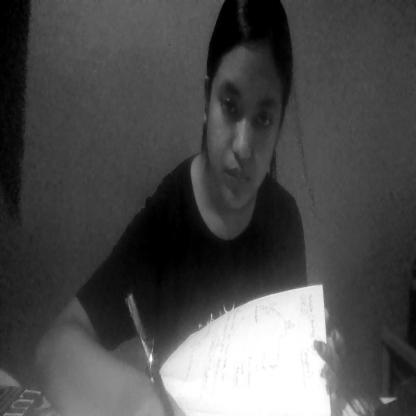Normal: (204, 16, 292, 207)
